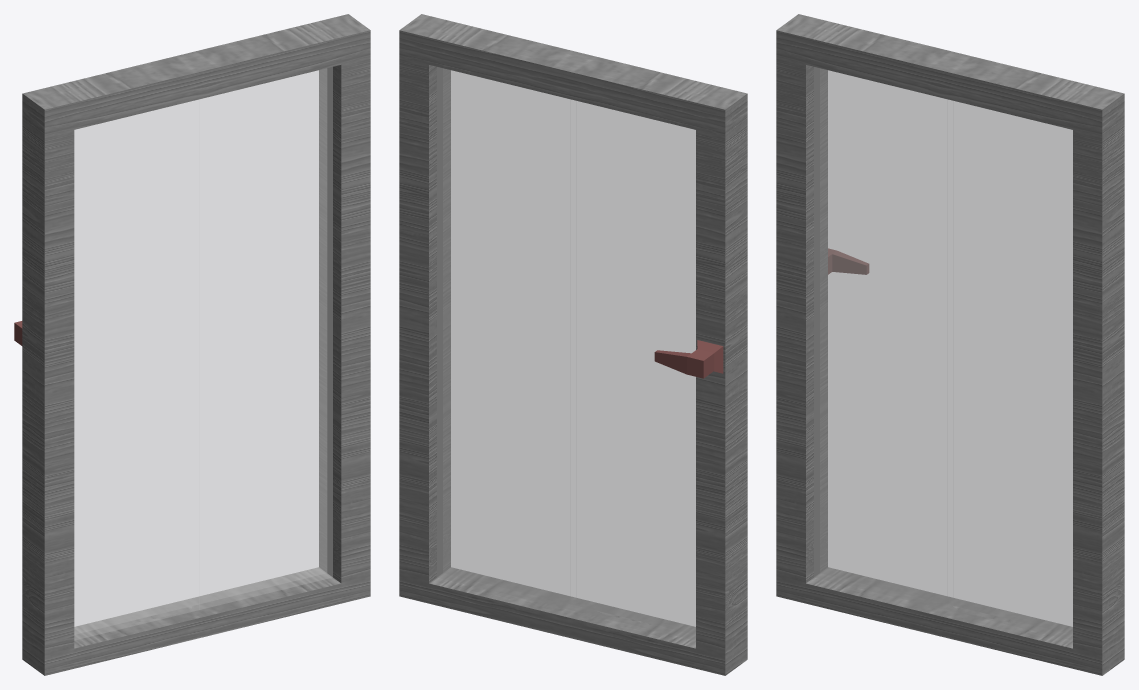
File: correct_door11.gltf
3 renders of one model, left to right at view 1: azimuth 30°, elevation 25°; view 2: azimuth 150°, elevation 25°; view 3: azimuth 330°, elevation 25°, orthographic.
Visible parts, largest first — view 1: Door; view 2: Door, DoorKnob; view 3: Door, DoorKnob.
Part boxes in pixels (bbox=[...]): Door: bbox=[22, 14, 370, 675]; Door: bbox=[399, 14, 747, 675]; DoorKnob: bbox=[654, 340, 723, 378]; Door: bbox=[776, 14, 1124, 675]; DoorKnob: bbox=[828, 248, 868, 274].
Bounding box in the file's own units: 2.64 × 4.38 × 0.5215.
Materials: 3 (1 with a texture image).
